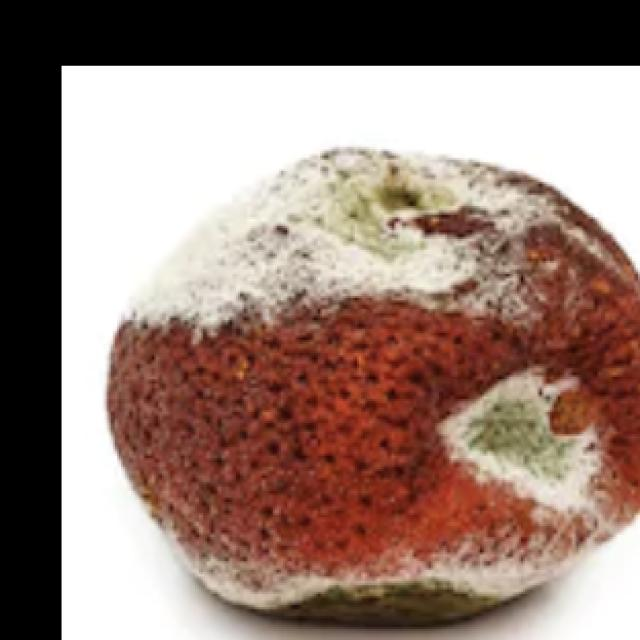sangat_busuk: (106, 149, 638, 627)
